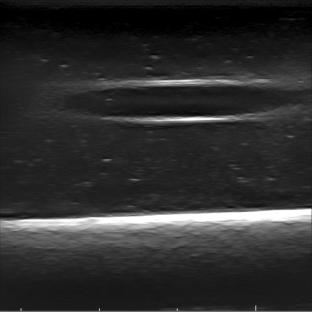vessel: (65, 77, 289, 125)
